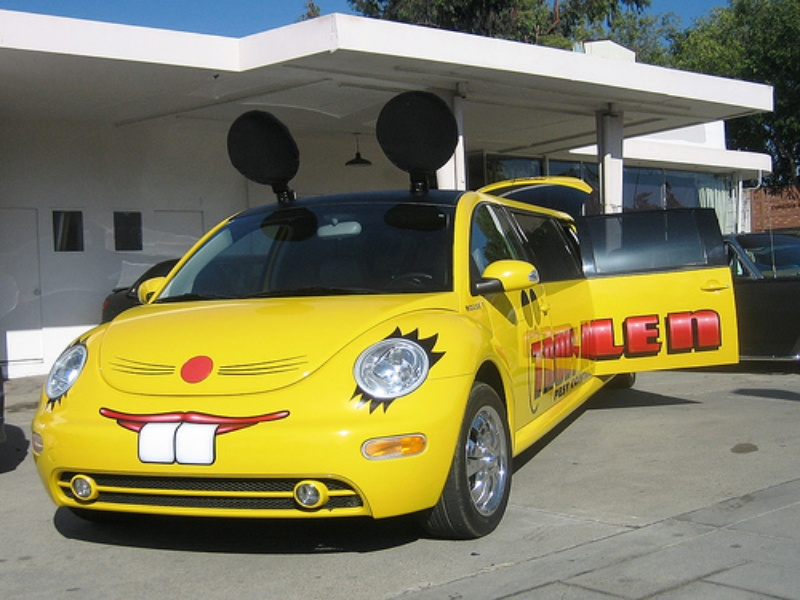car: (33, 176, 740, 539)
